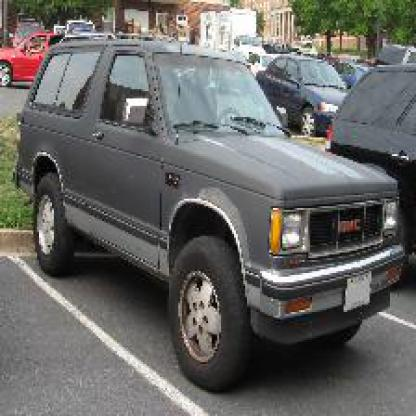not_emergency: (21, 37, 414, 385)
